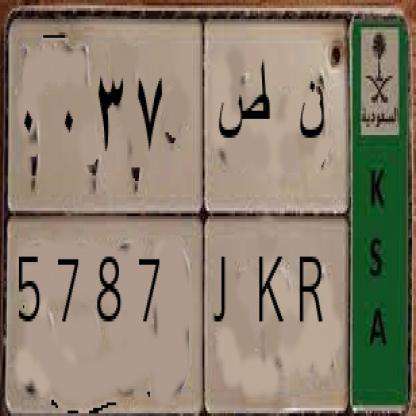english: (13, 216, 349, 413)
